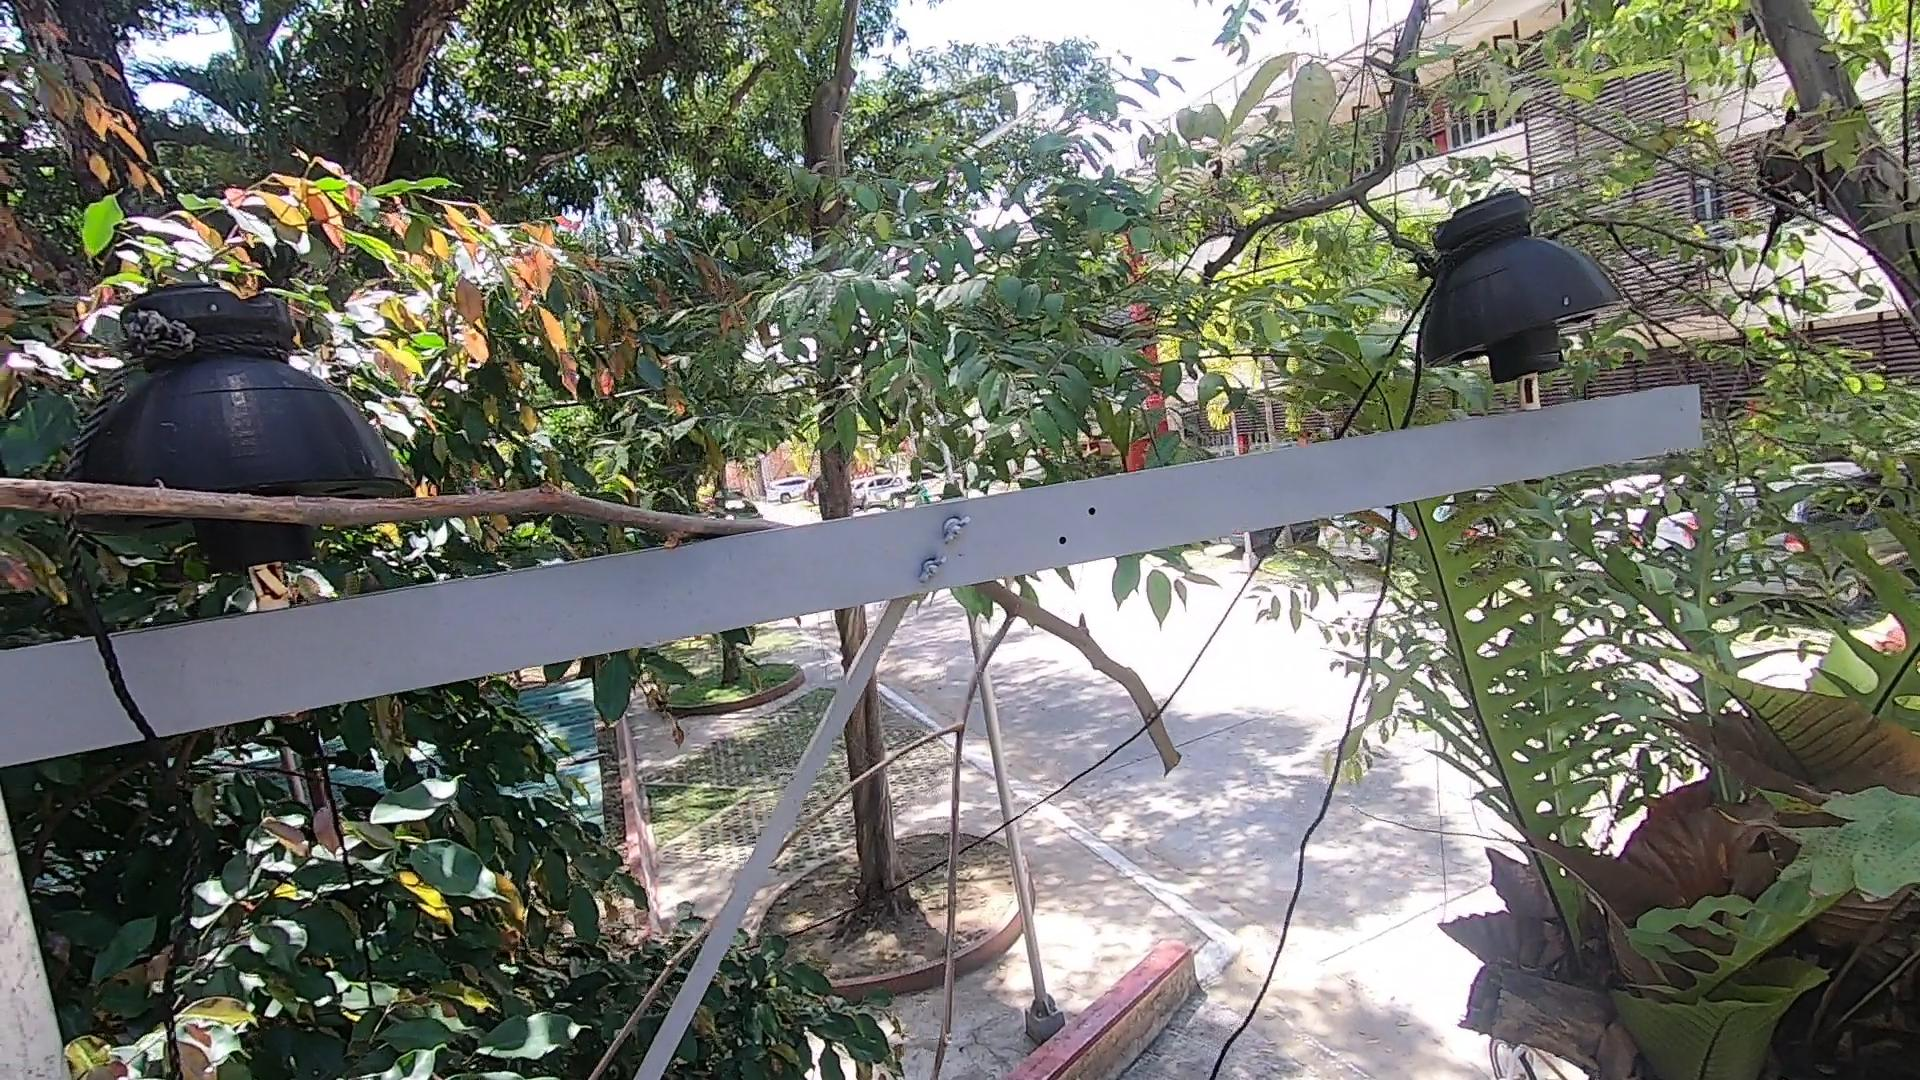tree branch: (777, 582, 1222, 1073), (1, 469, 814, 560), (578, 927, 704, 1071)
